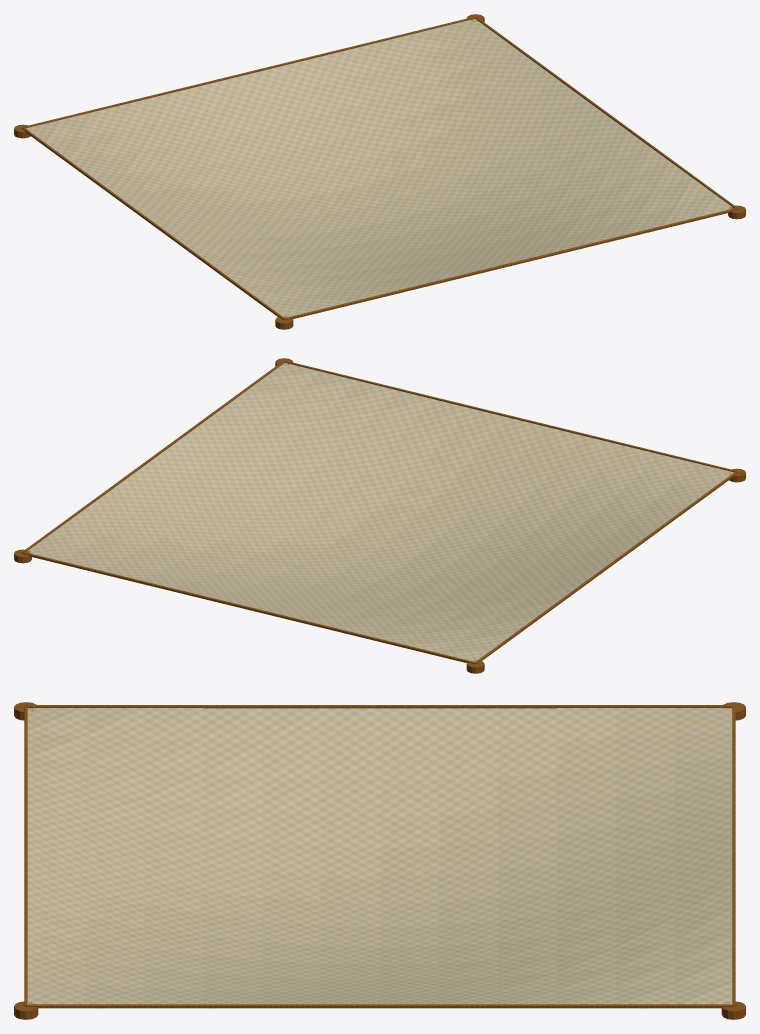
The picture shows the model from 3 angles, top to bottom: view 1: azimuth 30°, elevation 25°; view 2: azimuth 150°, elevation 25°; view 3: azimuth 270°, elevation 25°; orthographic projection. The views are drawn at different scales.
Visible parts, largest first — view 1: Taut woven removable canopy with shallow sag, Canopy sewn tension edge, Canopy sewn tension edge.002, Canopy sewn tension edge.003, Canopy sewn tension edge.001; view 2: Taut woven removable canopy with shallow sag, Canopy sewn tension edge.002, Canopy sewn tension edge, Canopy sewn tension edge.003, Canopy sewn tension edge.001; view 3: Taut woven removable canopy with shallow sag, Canopy sewn tension edge.001, Canopy sewn tension edge.003, Canopy sewn tension edge, Canopy sewn tension edge.002.
Boxes of the visible parts, bbox=[...] form: Taut woven removable canopy with shallow sag: bbox=[26, 19, 733, 317]; Canopy sewn tension edge: bbox=[284, 208, 737, 319]; Canopy sewn tension edge.002: bbox=[22, 16, 475, 128]; Canopy sewn tension edge.003: bbox=[22, 127, 284, 319]; Canopy sewn tension edge.001: bbox=[475, 17, 737, 208]; Taut woven removable canopy with shallow sag: bbox=[27, 363, 733, 661]; Canopy sewn tension edge.002: bbox=[22, 552, 475, 663]; Canopy sewn tension edge: bbox=[284, 360, 737, 472]; Canopy sewn tension edge.003: bbox=[475, 471, 737, 663]; Canopy sewn tension edge.001: bbox=[22, 361, 284, 552]; Taut woven removable canopy with shallow sag: bbox=[27, 708, 732, 1004]; Canopy sewn tension edge.001: bbox=[26, 1004, 733, 1008]; Canopy sewn tension edge.003: bbox=[26, 705, 733, 708]; Canopy sewn tension edge: bbox=[24, 706, 27, 1006]; Canopy sewn tension edge.002: bbox=[732, 706, 735, 1006].
Size of the model in its own units: 3.93 by 0.293 by 3.93.
2 materials, 2 textured.
